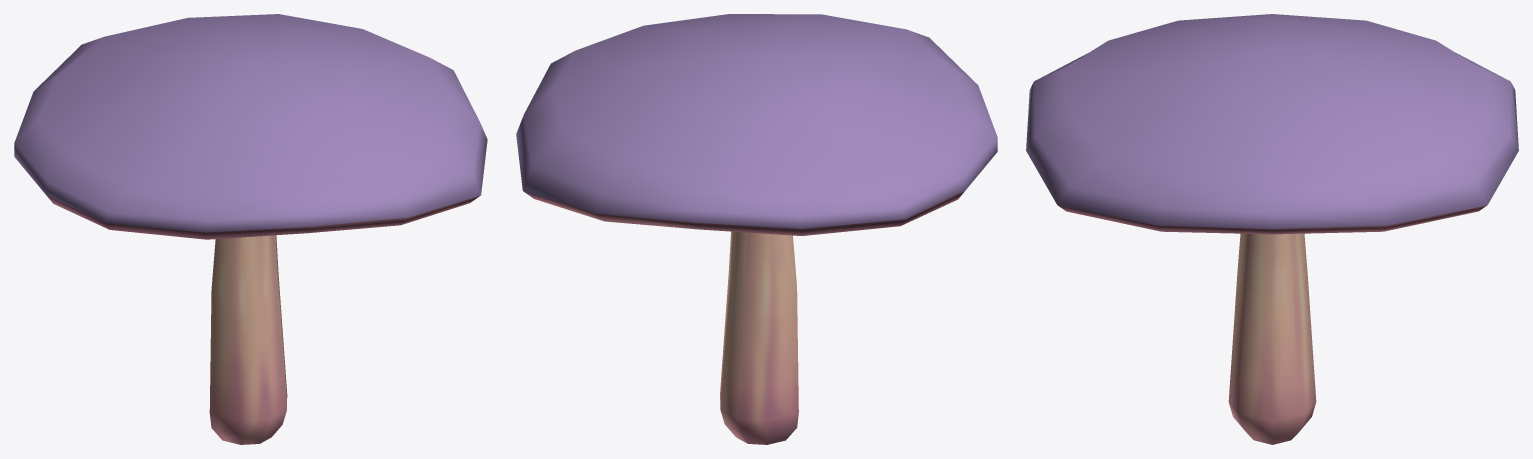
The model's file is MD_mushroom_Nomal_L.fbx.
3 views of the same model, side by side, from view 1: azimuth 30°, elevation 25°; view 2: azimuth 150°, elevation 25°; view 3: azimuth 270°, elevation 25° (orthographic). The views are drawn at different scales.
Visible parts, largest first — view 1: mushroom_Nomal_L1; view 2: mushroom_Nomal_L1; view 3: mushroom_Nomal_L1.
Part boxes in pixels (<box>): mushroom_Nomal_L1: <box>14,14,487,444</box>; mushroom_Nomal_L1: <box>516,14,997,444</box>; mushroom_Nomal_L1: <box>1026,14,1518,444</box>.
Bounding box in the file's own units: 2749 × 2369 × 2764.
Materials: 1 (1 with a texture image).
